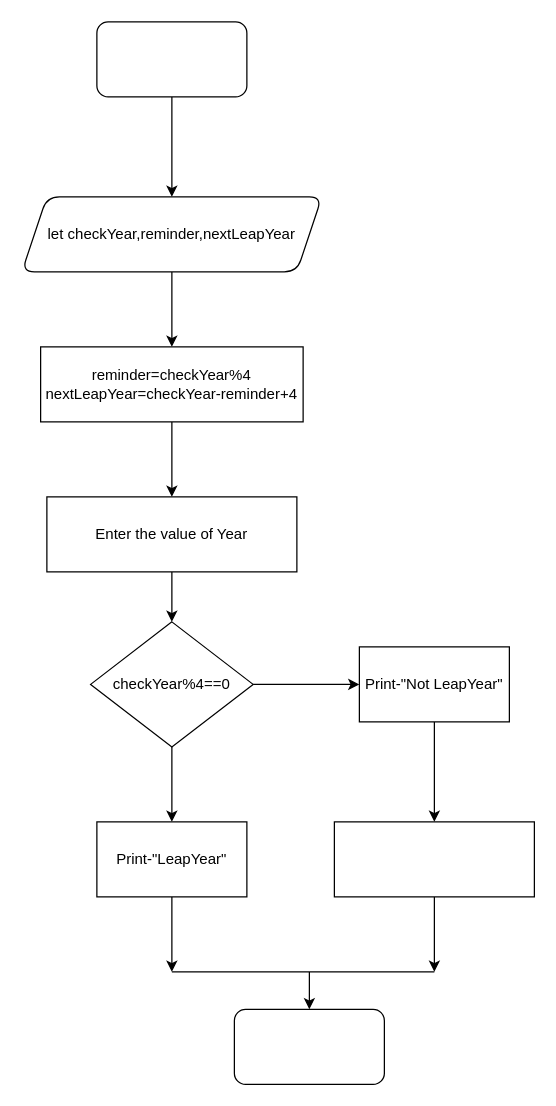
Image size: 556x1106. Some labels were removed from this diagram. Here are the shapes that lost their labels. From the top down, the centre of each, then its label:
(171,59): START
(433,859): Print"Next closest leapYear"nextLeapYear
(308,1046): END
